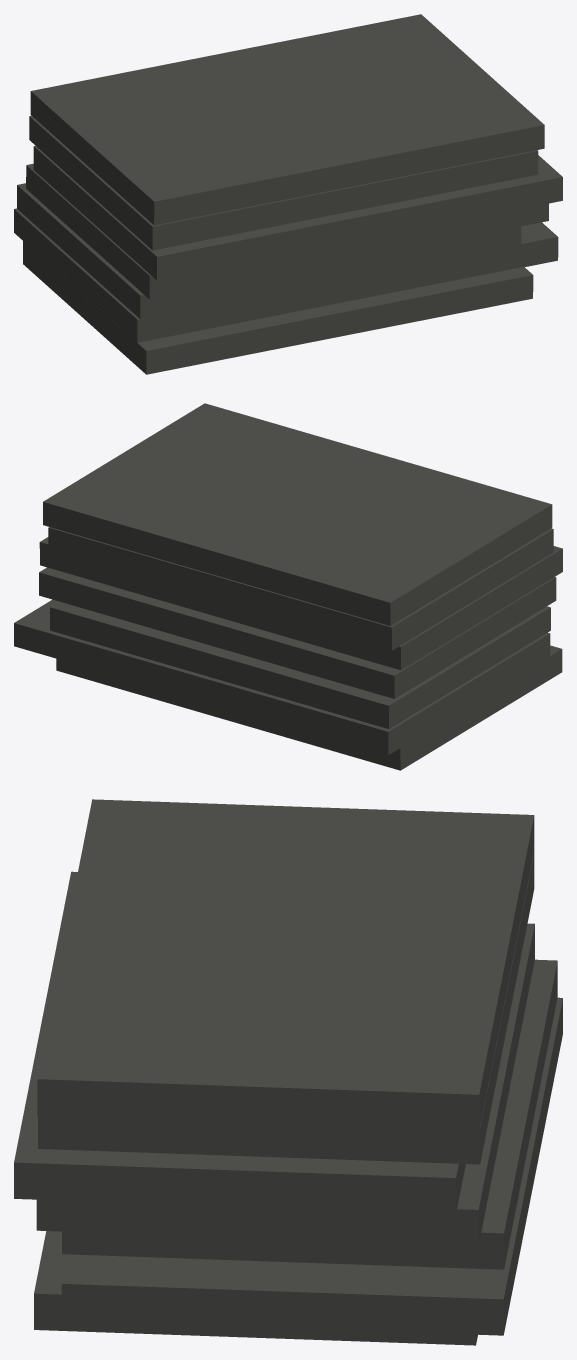
The model's file is office_filestack01_cube.fbx.
The picture shows the model from 3 angles, top to bottom: view 1: azimuth 30°, elevation 25°; view 2: azimuth 150°, elevation 25°; view 3: azimuth 270°, elevation 25°; orthographic projection. The views are drawn at different scales.
Parts seen in each view (by area): view 1: office_filestack01_cube; view 2: office_filestack01_cube; view 3: office_filestack01_cube.
Part boxes in pixels (x1,y1,x2,y2): office_filestack01_cube: (14,14,562,374); office_filestack01_cube: (14,403,562,770); office_filestack01_cube: (14,799,562,1345).
Size of the model in its own units: 1.16 by 0.4481 by 0.8525.
